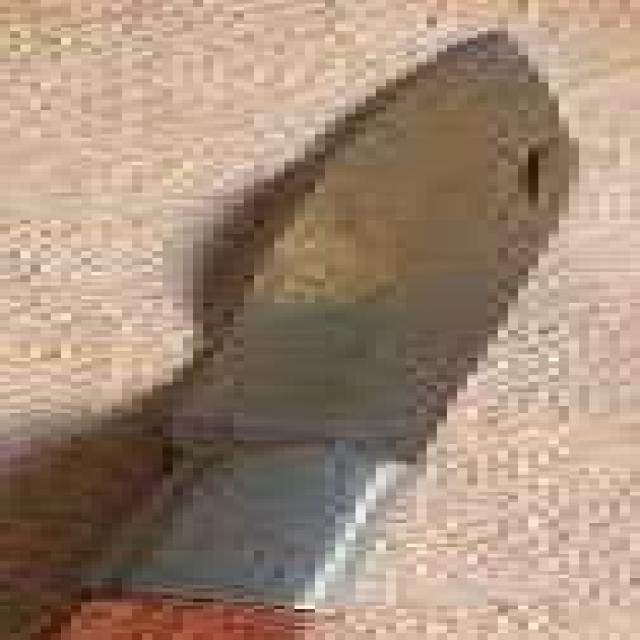knife: (76, 28, 619, 635)
